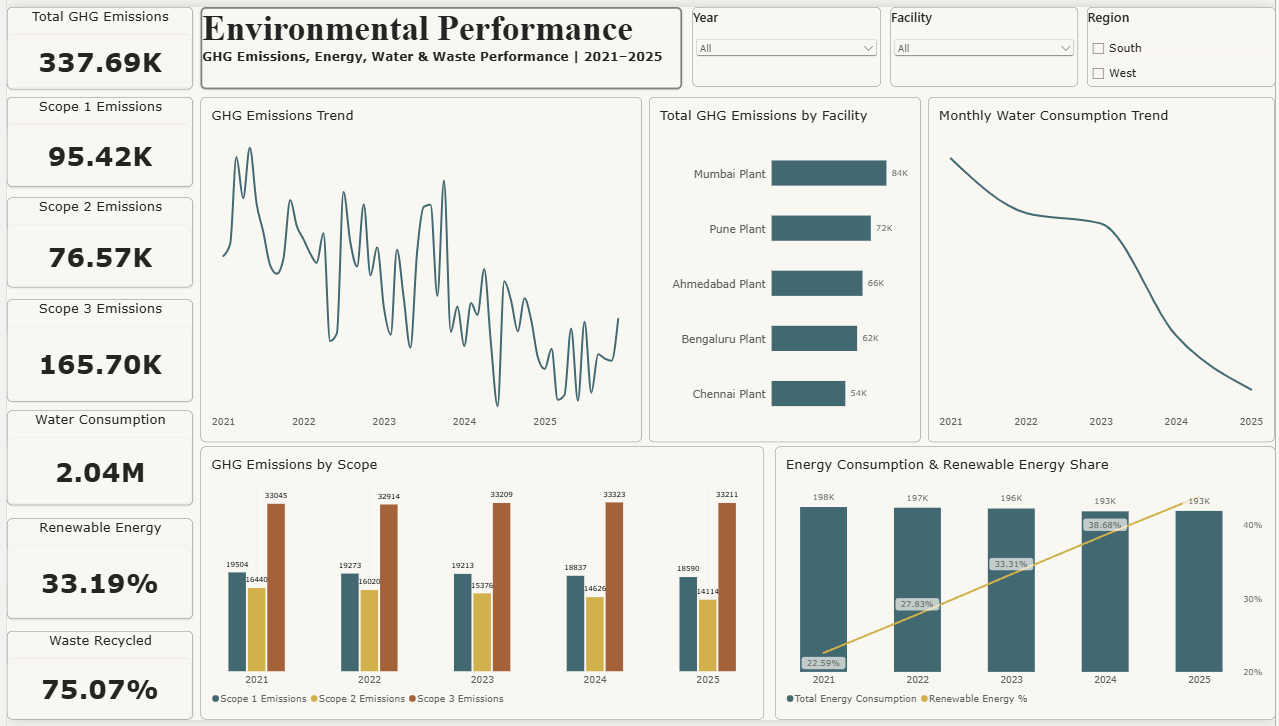

The dashboard page shown, as its layout file describes it:
{"tool":"powerbi","page":{"name":"Environmental","canvas":[1920,1080],"ordinal":1},"visuals":[{"type":"slicer","title":"Year","fields":{"Values":["DimYear.Year"]},"box":[1038,0,285,120.4],"z":0},{"type":"slicer","title":"Facility","fields":{"Values":["Facilities.Facility"]},"box":[1337.8,0,283.9,120.4],"z":1},{"type":"slicer","title":"Region","fields":{"Values":["Facilities.Region"]},"box":[1635.3,0,285,120.4],"z":2},{"type":"cardVisual","title":"Total GHG Emissions","fields":{"Data":["Measure.Total GHG Emissions"]},"box":[0,0,281.6,124.9],"z":3},{"type":"cardVisual","title":"Scope 1 Emissions","fields":{"Data":["Measure.Scope 1 Emissions"]},"box":[0,136.3,281.6,136.3],"z":4},{"type":"cardVisual","title":"Scope 2 Emissions","fields":{"Data":["Measure.Scope 2 Emissions"]},"box":[0,288.5,281.6,136.3],"z":5},{"type":"cardVisual","title":"Renewable Energy","fields":{"Data":["Measure.Renewable Energy %"]},"box":[0,774.5,281.6,152.2],"z":6},{"type":"cardVisual","title":"Waste Recycled","fields":{"Data":["Measure.Waste Recycling %"]},"box":[0,944.9,281.6,134],"z":7},{"type":"lineChart","title":"GHG Emissions Trend","fields":{"Category":["Calendar.Month Start"],"Y":["Measure.Total GHG Emissions"]},"box":[293,136.3,667.8,522.4],"z":8},{"type":"clusteredColumnChart","title":"GHG Emissions by Scope","fields":{"Category":["Calendar.Year"],"Y":["Measure.Scope 1 Emissions","Measure.Scope 2 Emissions","Measure.Scope 3 Emissions"]},"box":[294,665,853.6,413.6],"z":9},{"type":"clusteredBarChart","fields":{"Category":["Facilities.Facility"],"Y":["Measure.Total GHG Emissions"]},"box":[972.1,136.3,411.1,522.4],"z":10},{"type":"lineClusteredColumnComboChart","title":"Energy Consumption & Renewable Energy Share","fields":{"Category":["Calendar.Year"],"Y":["Measure.Total Energy Consumption"],"Y2":["Measure.Renewable Energy %"]},"box":[1161.8,665,758.3,413.6],"z":11},{"type":"cardVisual","title":"Scope 3 Emissions","fields":{"Data":["Measure.Scope 3 Emissions"]},"box":[0,442.9,281.6,154.4],"z":12},{"type":"cardVisual","title":"Water Consumption","fields":{"Data":["Measure.Total Water Consumption"]},"box":[0,611,281.6,143.1],"z":13},{"type":"lineChart","title":"Monthly Water Consumption Trend","fields":{"Category":["Calendar.Month Start.Variation.Date Hierarchy.Year","Calendar.Month Start.Variation.Date Hierarchy.Quarter","Calendar.Month Start.Variation.Date Hierarchy.Month","Calendar.Month Start.Variation.Date Hierarchy.Day"],"Y":["Measure.Total Water Consumption"]},"box":[1394.6,136.3,524.7,522.4],"z":14},{"type":"textbox","box":[293,0,729.1,124.9],"z":15}]}

Visuals, with their boxes in screenshot pixels (x1, y1, x2, y2), scaled from the page's 1920x1080 canvas onto the 1279x726 screenshot:
"Year" slicer: 691,0,881,81
"Facility" slicer: 891,0,1080,81
"Region" slicer: 1089,0,1278,81
"Total GHG Emissions" cardVisual: 0,0,188,84
"Scope 1 Emissions" cardVisual: 0,92,188,183
"Scope 2 Emissions" cardVisual: 0,194,188,286
"Renewable Energy" cardVisual: 0,521,188,623
"Waste Recycled" cardVisual: 0,635,188,725
"GHG Emissions Trend" lineChart: 195,92,640,443
"GHG Emissions by Scope" clusteredColumnChart: 196,447,764,725
clusteredBarChart - Facilities.Facility x Measure.Total GHG Emissions: 648,92,921,443
"Energy Consumption & Renewable Energy Share" lineClusteredColumnComboChart: 774,447,1278,725
"Scope 3 Emissions" cardVisual: 0,298,188,402
"Water Consumption" cardVisual: 0,411,188,507
"Monthly Water Consumption Trend" lineChart: 929,92,1278,443
textbox: 195,0,681,84
